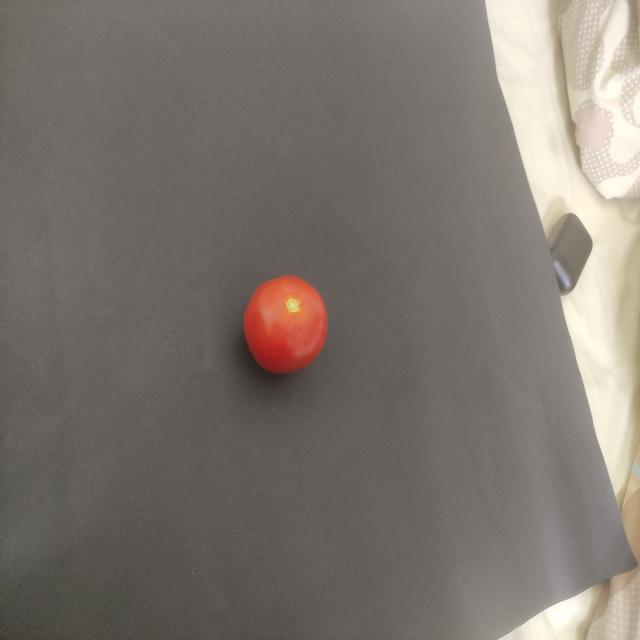kirmizi: (230, 258, 340, 383)
